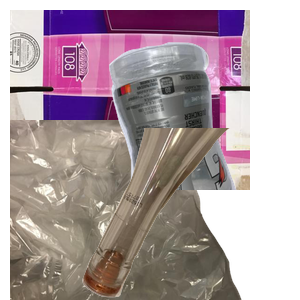cardboard: (10, 10, 250, 190)
glass: (80, 128, 300, 300)
plastic: (106, 40, 300, 220)
trash: (10, 120, 244, 300)
